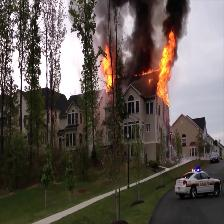fire: (157, 32, 175, 103), (102, 48, 115, 85)
smoke: (130, 2, 154, 72), (104, 1, 125, 49), (167, 1, 186, 28)
